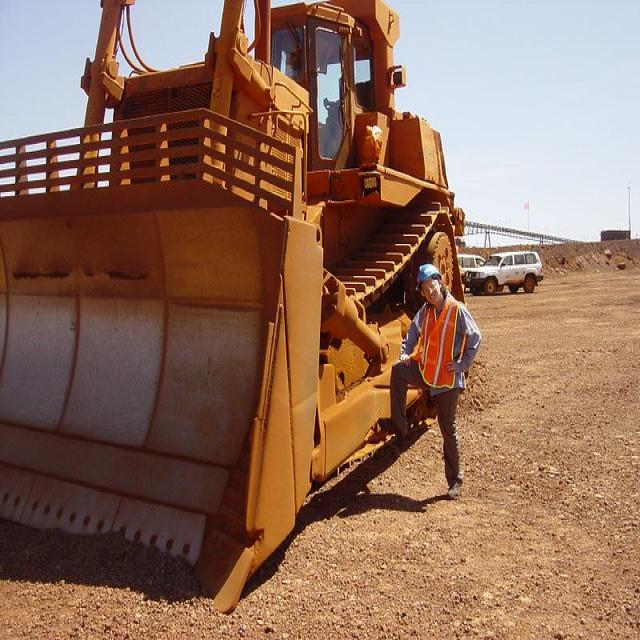buldozerpayloadergrader: (10, 0, 487, 597)
light_vehicle: (466, 239, 556, 301)
